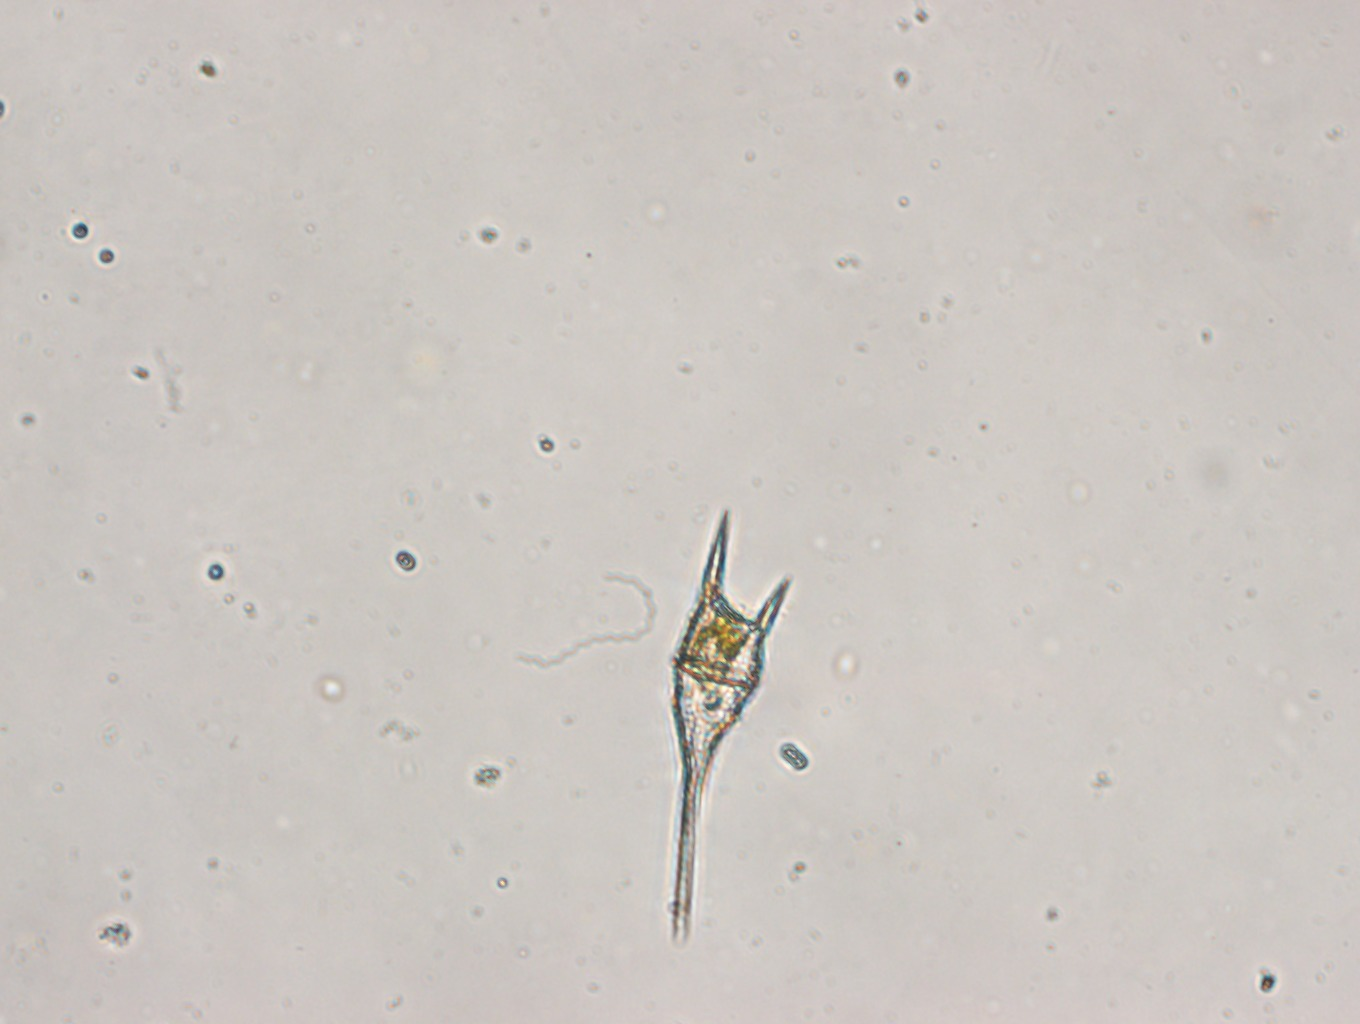ceratium furca: (655, 490, 796, 953)
